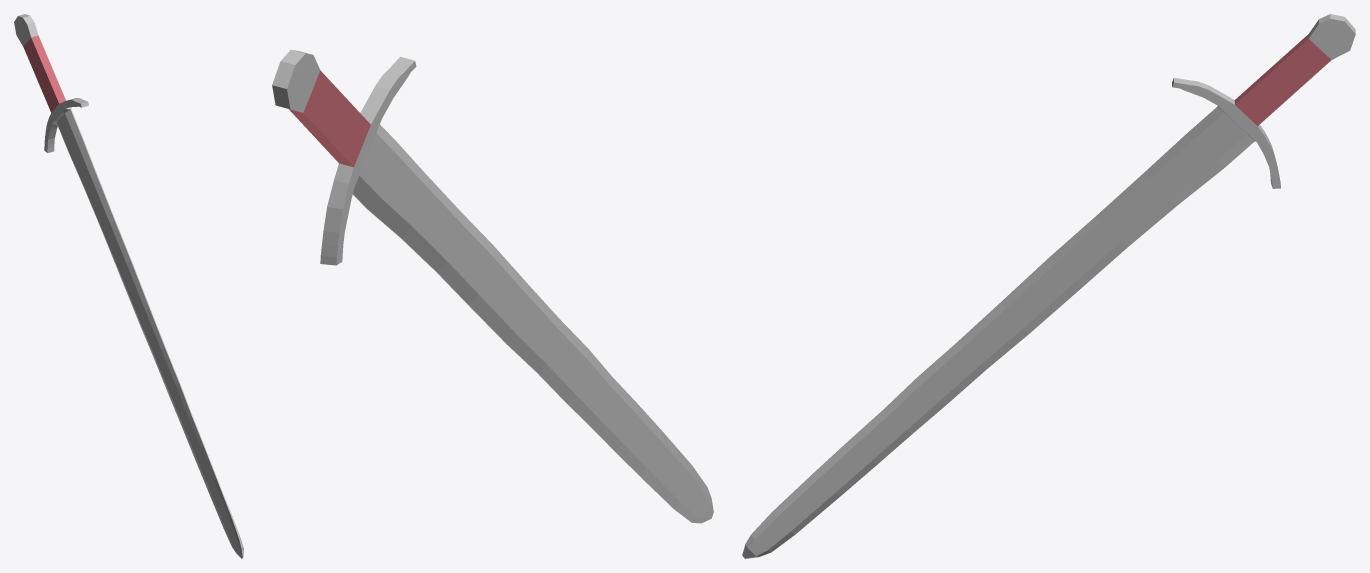
Rendered from EpeeLongue.fbx.
The picture shows the model from 3 angles, left to right: view 1: azimuth 30°, elevation 25°; view 2: azimuth 150°, elevation 25°; view 3: azimuth 270°, elevation 25°; orthographic projection. The views are drawn at different scales.
Visible parts, largest first — view 1: Cube; view 2: Cube; view 3: Cube.
Part boxes in pixels (box(x1,y1,x2,y2)): Cube: box(14, 14, 243, 558); Cube: box(272, 49, 713, 523); Cube: box(742, 14, 1355, 558).
Bounding box in the file's own units: 28.33 × 941 × 970.
